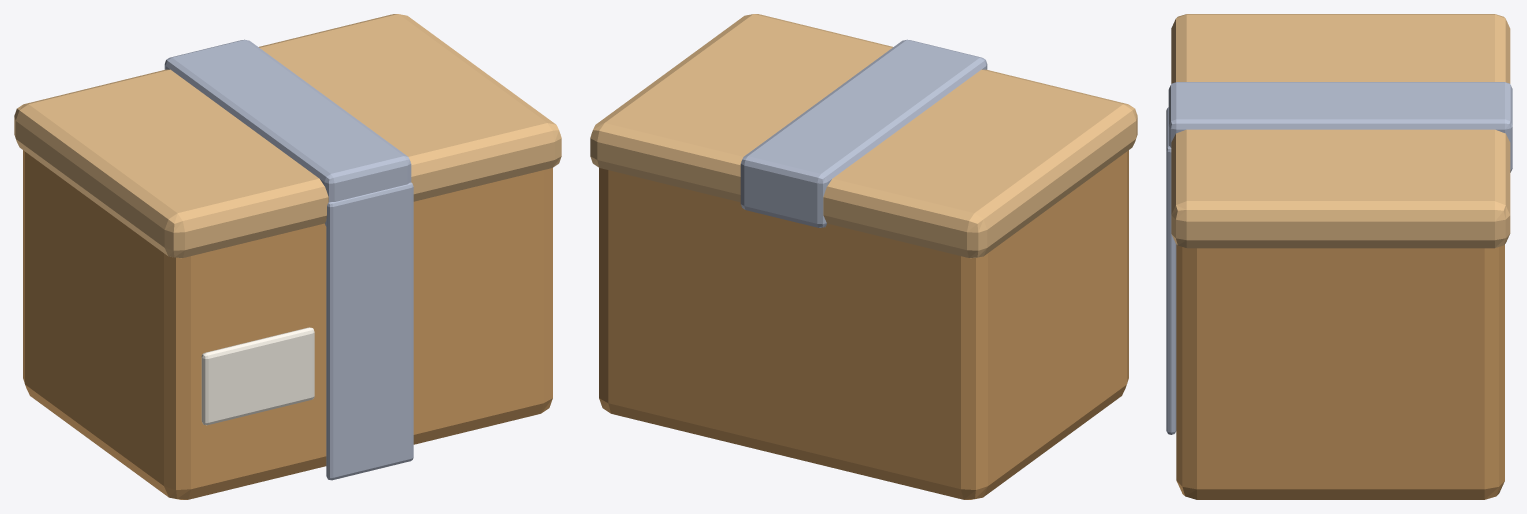
3 renders of one model, left to right at view 1: azimuth 30°, elevation 25°; view 2: azimuth 150°, elevation 25°; view 3: azimuth 270°, elevation 25°, orthographic. The views are drawn at different scales.
Parts seen in each view (by area): view 1: box; view 2: box; view 3: box.
Part boxes in pixels (x1,y1,x2,y2): box: (14, 14, 561, 499); box: (590, 14, 1137, 499); box: (1166, 14, 1512, 499).
Bounding box in the file's own units: 0.92 × 0.675 × 0.675.
